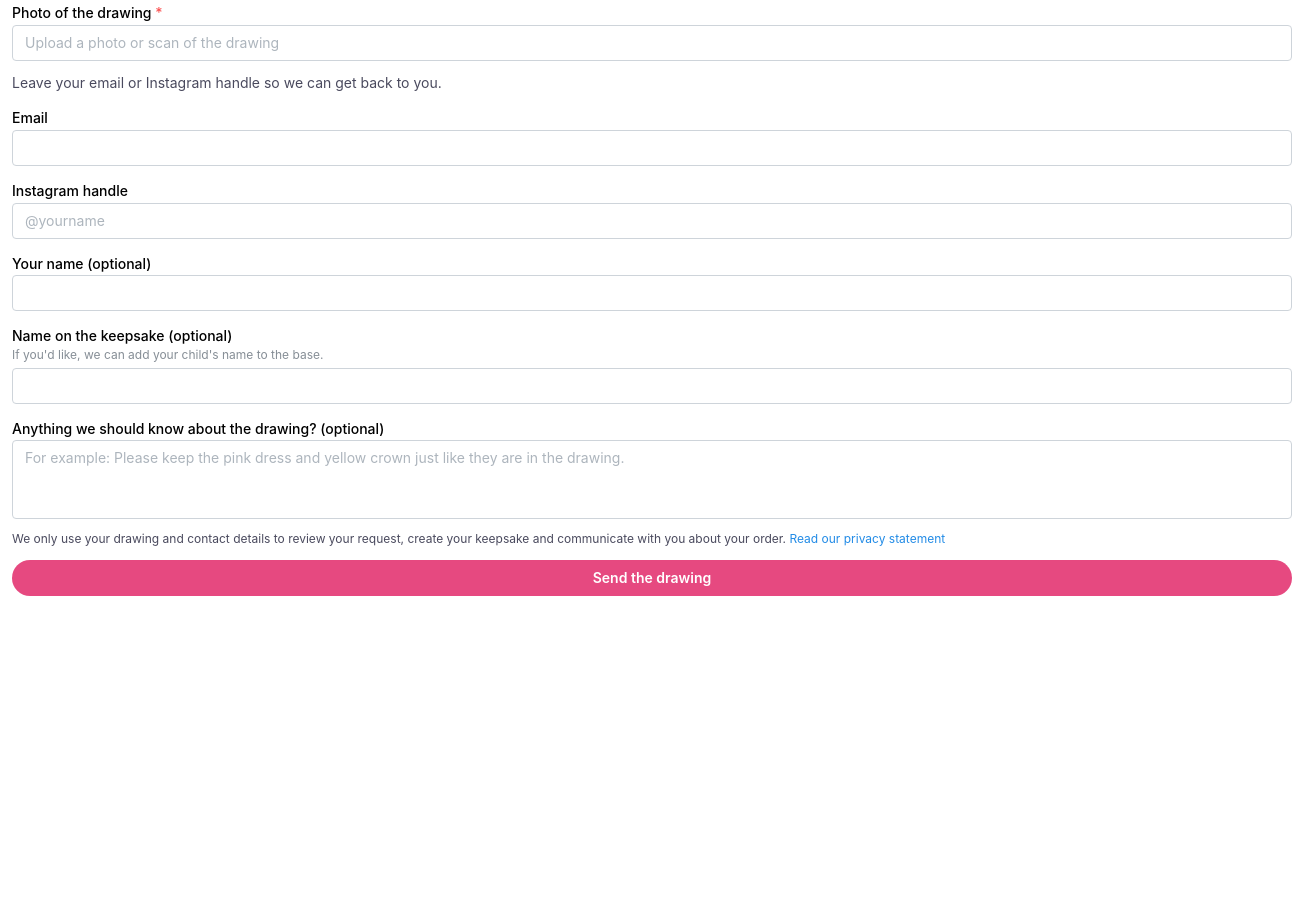
InquiryForm › requires a photo even when contact details are valid
Type "parent@example.com" into the field labelled "Email".
click(652, 148); type("parent@example.com")  # box [12,130,1292,166]
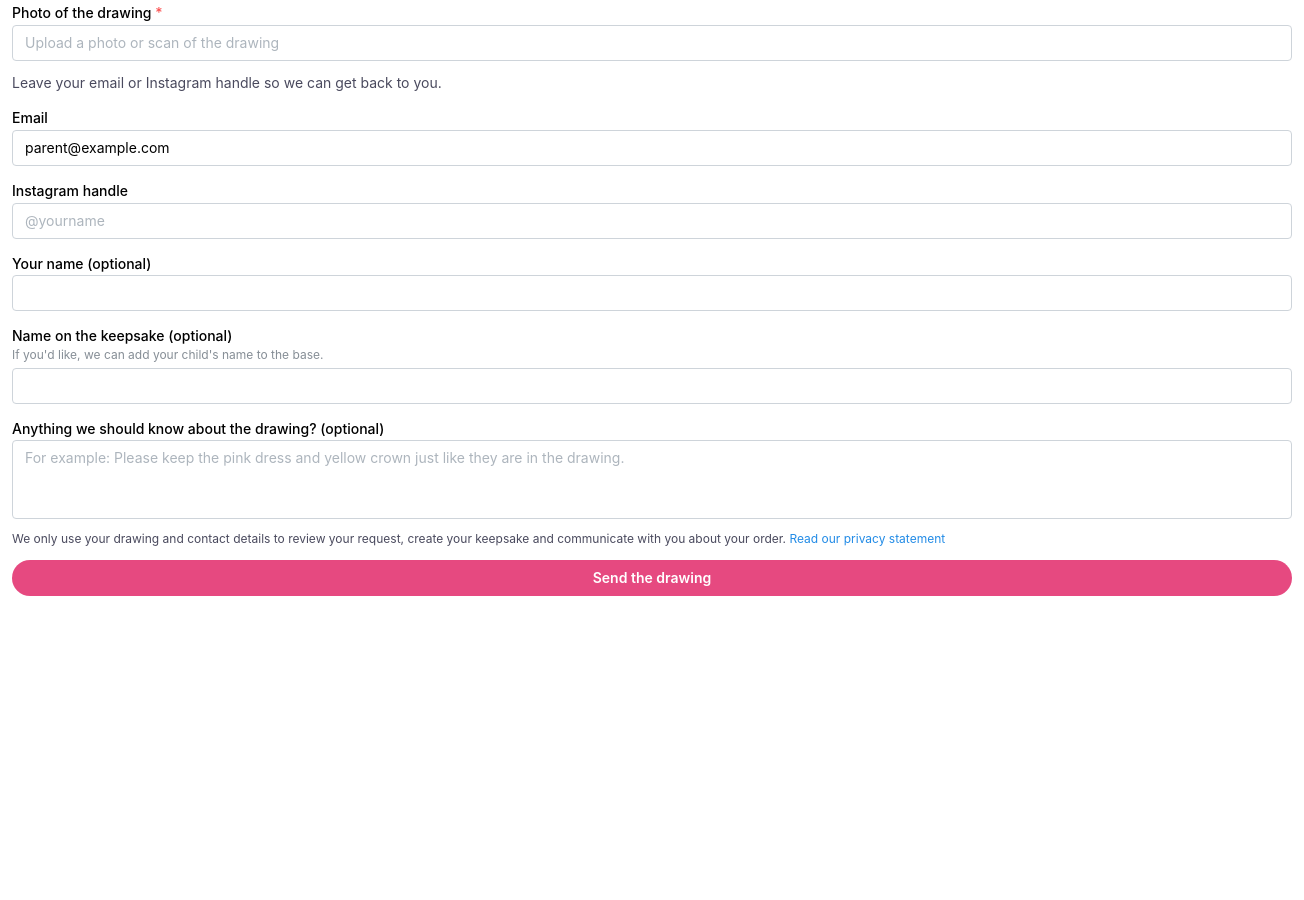
Click the button "Send the drawing".
click(652, 578)  # box [12,560,1292,596]
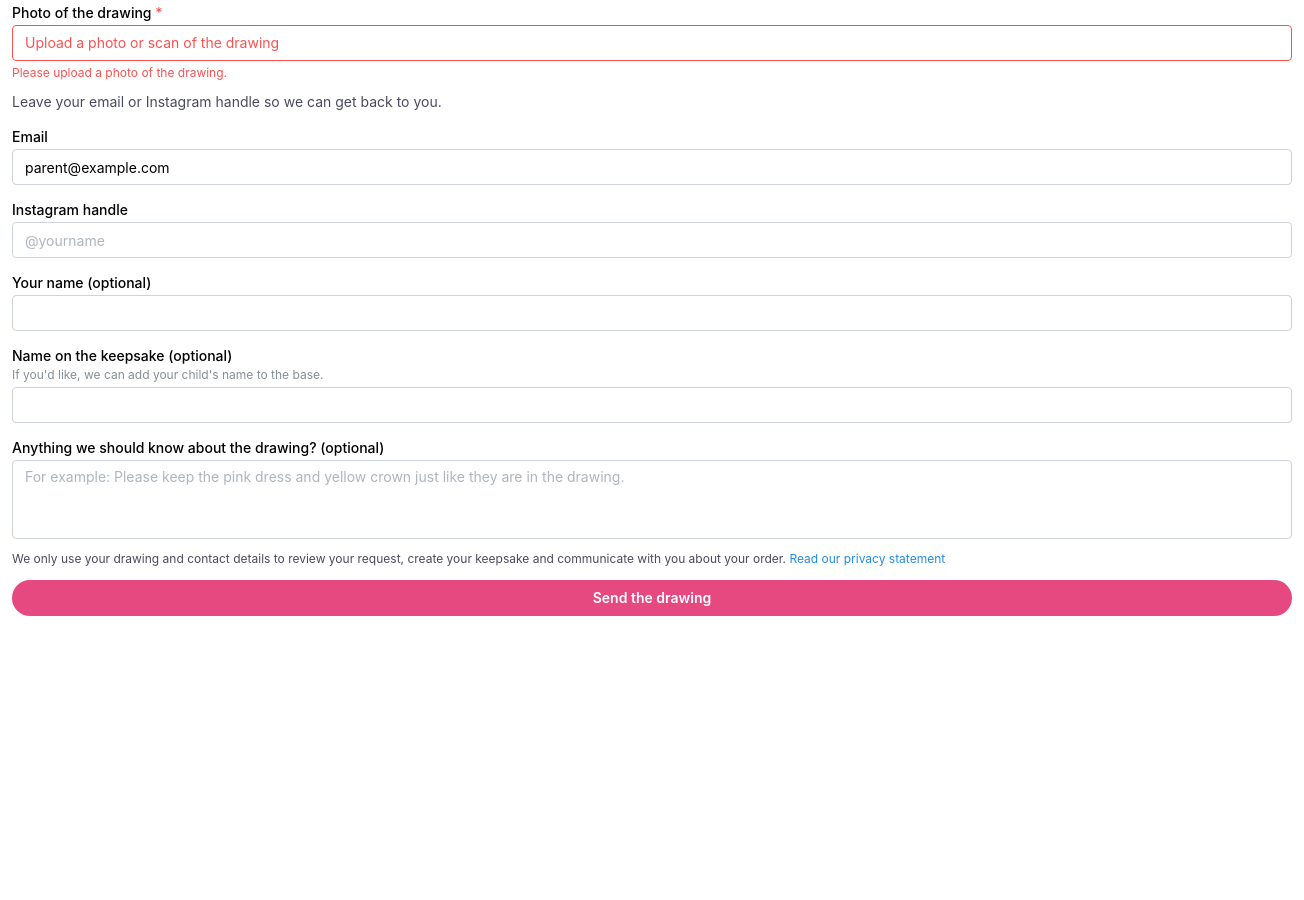
Result: the text "Please upload a photo of the drawing." is shown at [12,65,227,80]
